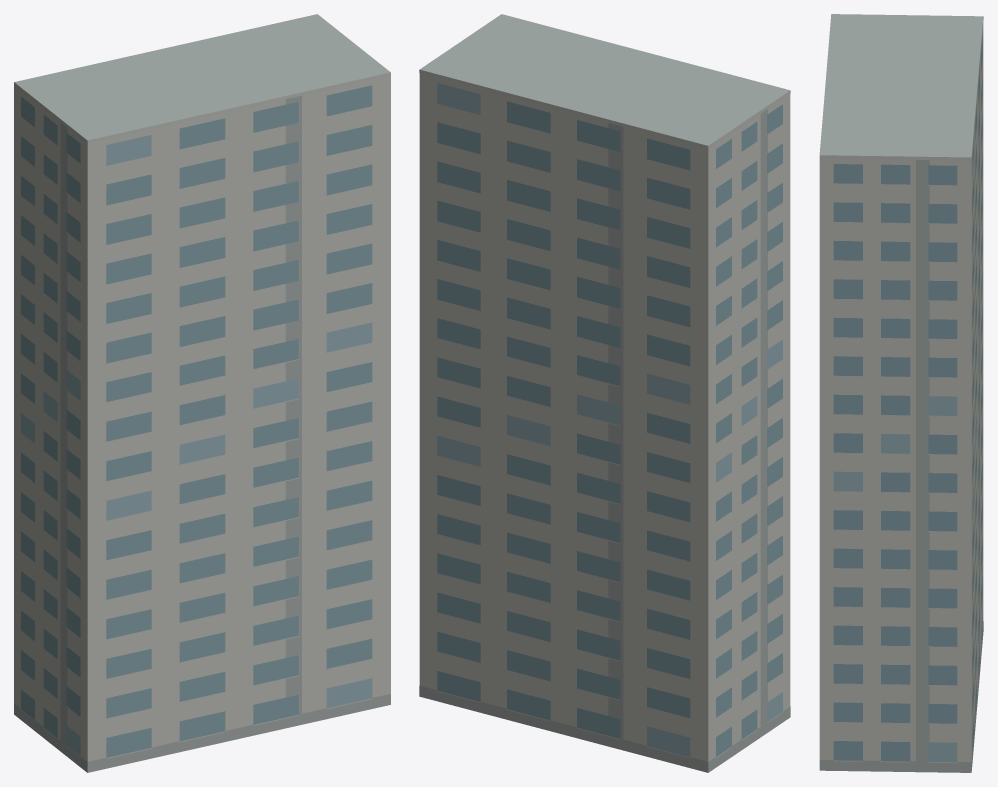
Rendered from residential-fbbb3c2d-5774-4c2e-b5fa-9cd7dad64310.glb.
The picture shows the model from 3 angles, left to right: view 1: azimuth 30°, elevation 25°; view 2: azimuth 150°, elevation 25°; view 3: azimuth 270°, elevation 25°; orthographic projection. The views are drawn at different scales.
Parts seen in each view (by area): view 1: residential-fbbb3c2d-5774-4c2e-b5fa-9cd7dad64310.tmp; view 2: residential-fbbb3c2d-5774-4c2e-b5fa-9cd7dad64310.tmp; view 3: residential-fbbb3c2d-5774-4c2e-b5fa-9cd7dad64310.tmp.
Part boxes in pixels (x1,y1,x2,y2): residential-fbbb3c2d-5774-4c2e-b5fa-9cd7dad64310.tmp: (14,14,390,772); residential-fbbb3c2d-5774-4c2e-b5fa-9cd7dad64310.tmp: (419,14,790,772); residential-fbbb3c2d-5774-4c2e-b5fa-9cd7dad64310.tmp: (819,14,983,772).
Bounding box in the file's own units: 23 × 46 × 11.11.
